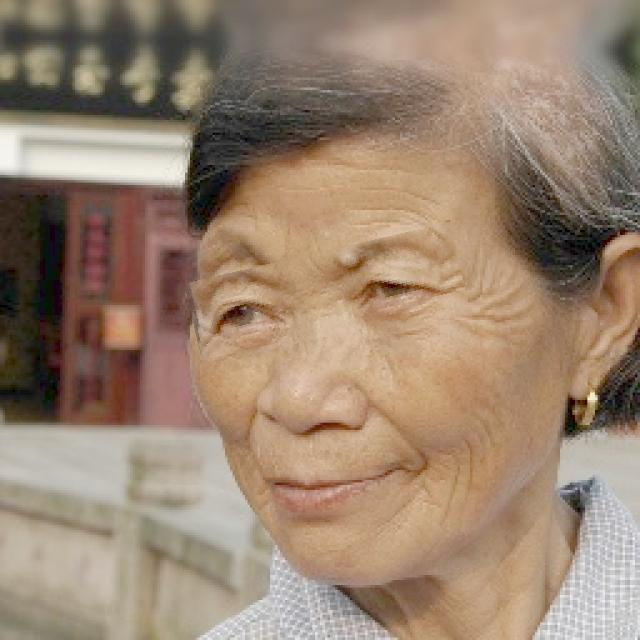no-glasses: (188, 237, 469, 362)
